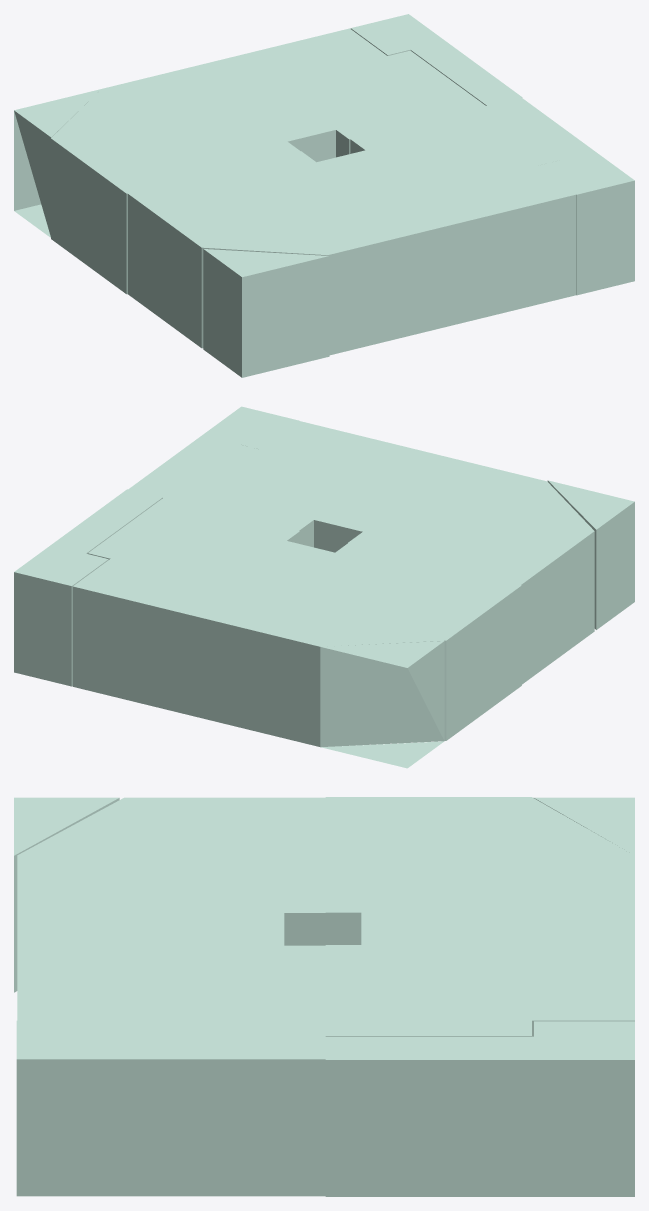
3 views of the same model, one above another, from view 1: azimuth 30°, elevation 25°; view 2: azimuth 150°, elevation 25°; view 3: azimuth 270°, elevation 25° (orthographic). The views are drawn at different scales.
Visible parts, largest first — view 1: Renderer Node; view 2: Renderer Node; view 3: Renderer Node.
Part boxes in pixels (x1,y1,x2,y2): Renderer Node: (14,14,634,377); Renderer Node: (14,406,634,768); Renderer Node: (14,797,634,1196).
Bounding box in the file's own units: 0.707 × 0.1719 × 0.706.
